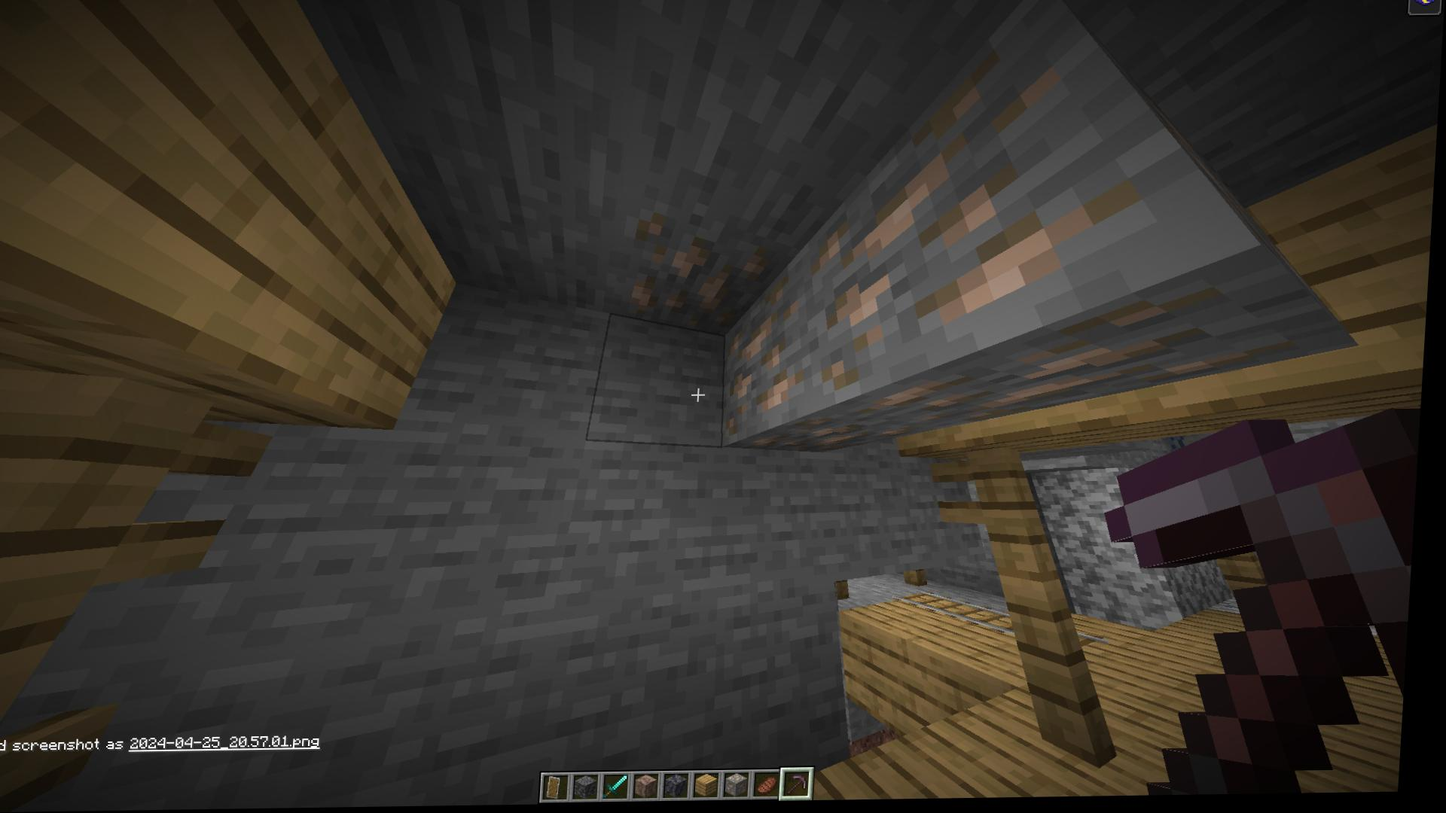iron ore: (813, 66, 1135, 383), (863, 296, 1270, 419), (622, 217, 763, 330), (722, 303, 807, 429), (747, 421, 914, 452)
